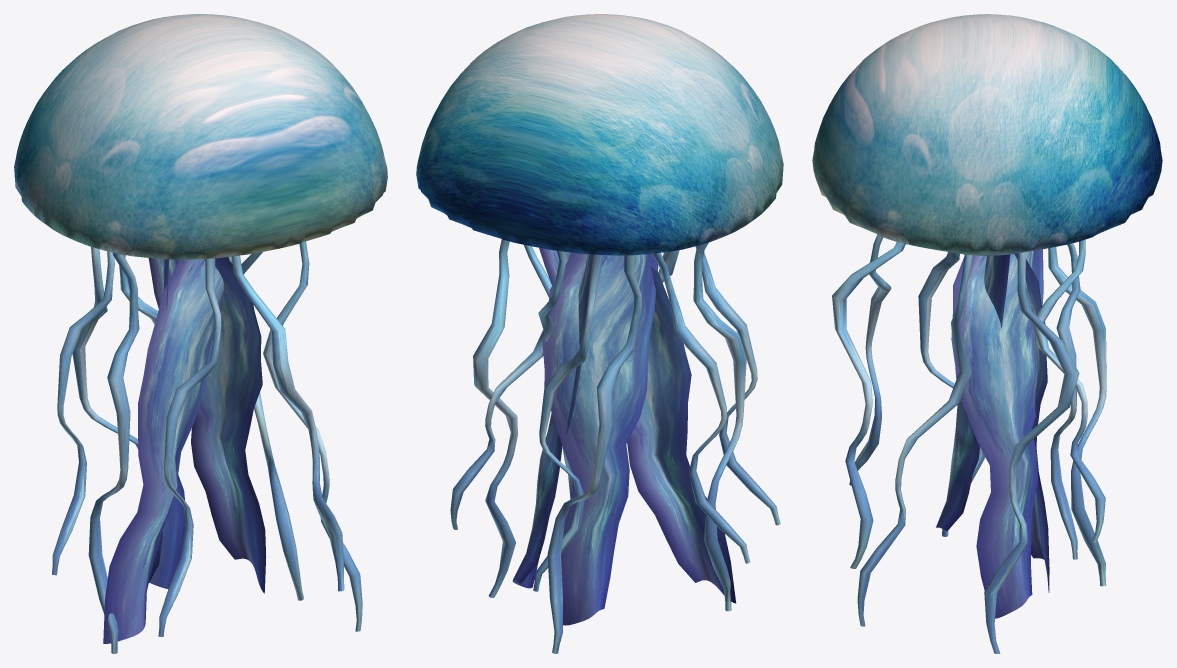
Rendered from jellyfish.obj.
The picture shows the model from 3 angles, left to right: view 1: azimuth 30°, elevation 25°; view 2: azimuth 150°, elevation 25°; view 3: azimuth 270°, elevation 25°; orthographic projection. The views are drawn at different scales.
Visible parts, largest first — view 1: topJelly1; view 2: topJelly1; view 3: topJelly1.
Boxes of the visible parts, x1,y1,x2,y2 form: topJelly1: (14, 14, 387, 653); topJelly1: (416, 14, 783, 653); topJelly1: (812, 14, 1162, 653).
Size of the model in its own units: 5.79 by 10.3 by 5.72.
4 materials, 3 textured.
